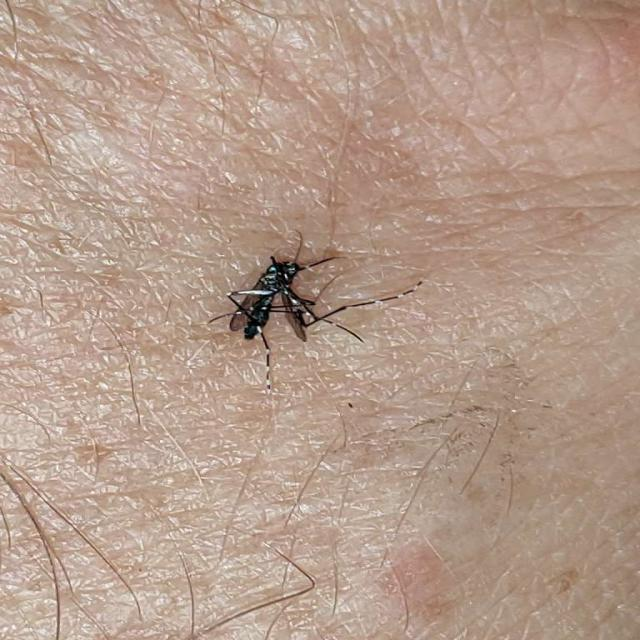albopictus: (200, 224, 425, 398)
